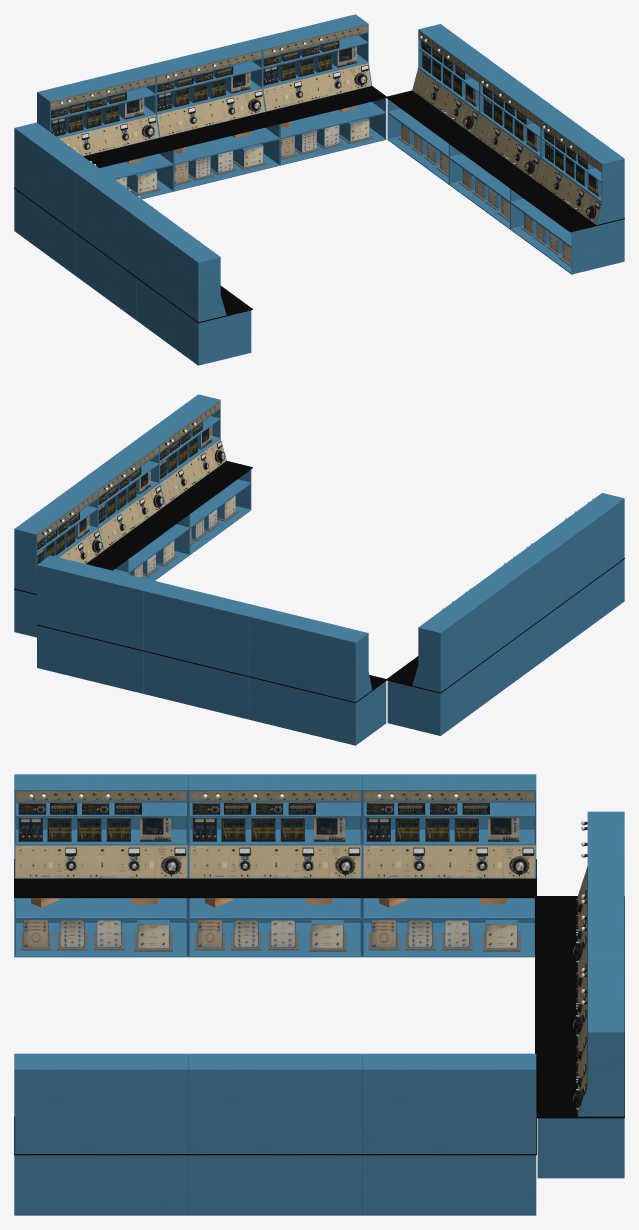
3 renders of one model, top to bottom at view 1: azimuth 30°, elevation 25°; view 2: azimuth 150°, elevation 25°; view 3: azimuth 270°, elevation 25°, orthographic. The views are drawn at different scales.
Parts seen in each view (by area): view 1: TestBench_Main_geo10; view 2: TestBench_Main_geo10; view 3: TestBench_Main_geo10.
Part boxes in pixels (x1,y1,x2,y2): TestBench_Main_geo10: (14, 14, 624, 365); TestBench_Main_geo10: (14, 394, 624, 745); TestBench_Main_geo10: (14, 774, 624, 1215).
Size of the model in its own units: 8.04 by 1.86 by 7.02.
Materials: 1 (1 with a texture image).
